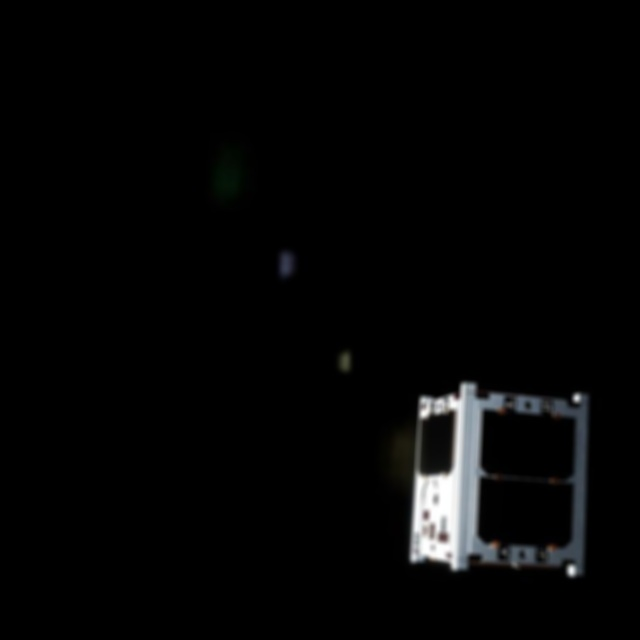medium_debris: (387, 368, 607, 585)
